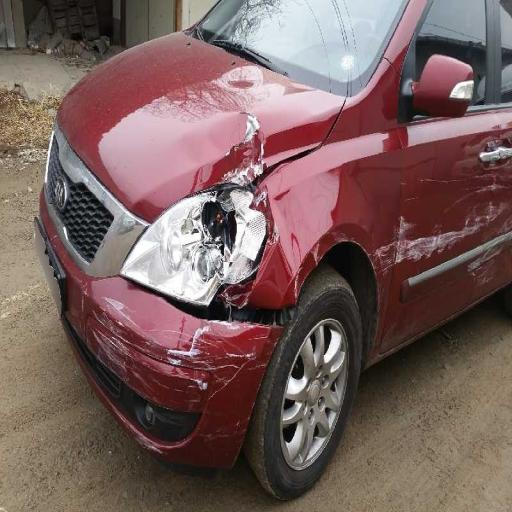broken: (138, 118, 312, 336)
scratch: (96, 269, 284, 451)
